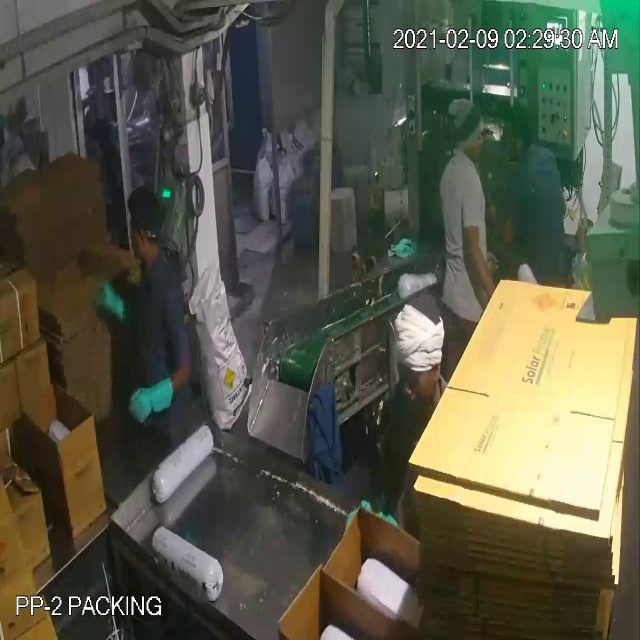Guantes: (116, 369, 188, 430), (90, 266, 137, 332)
Sin_guantes: (448, 216, 506, 309)
